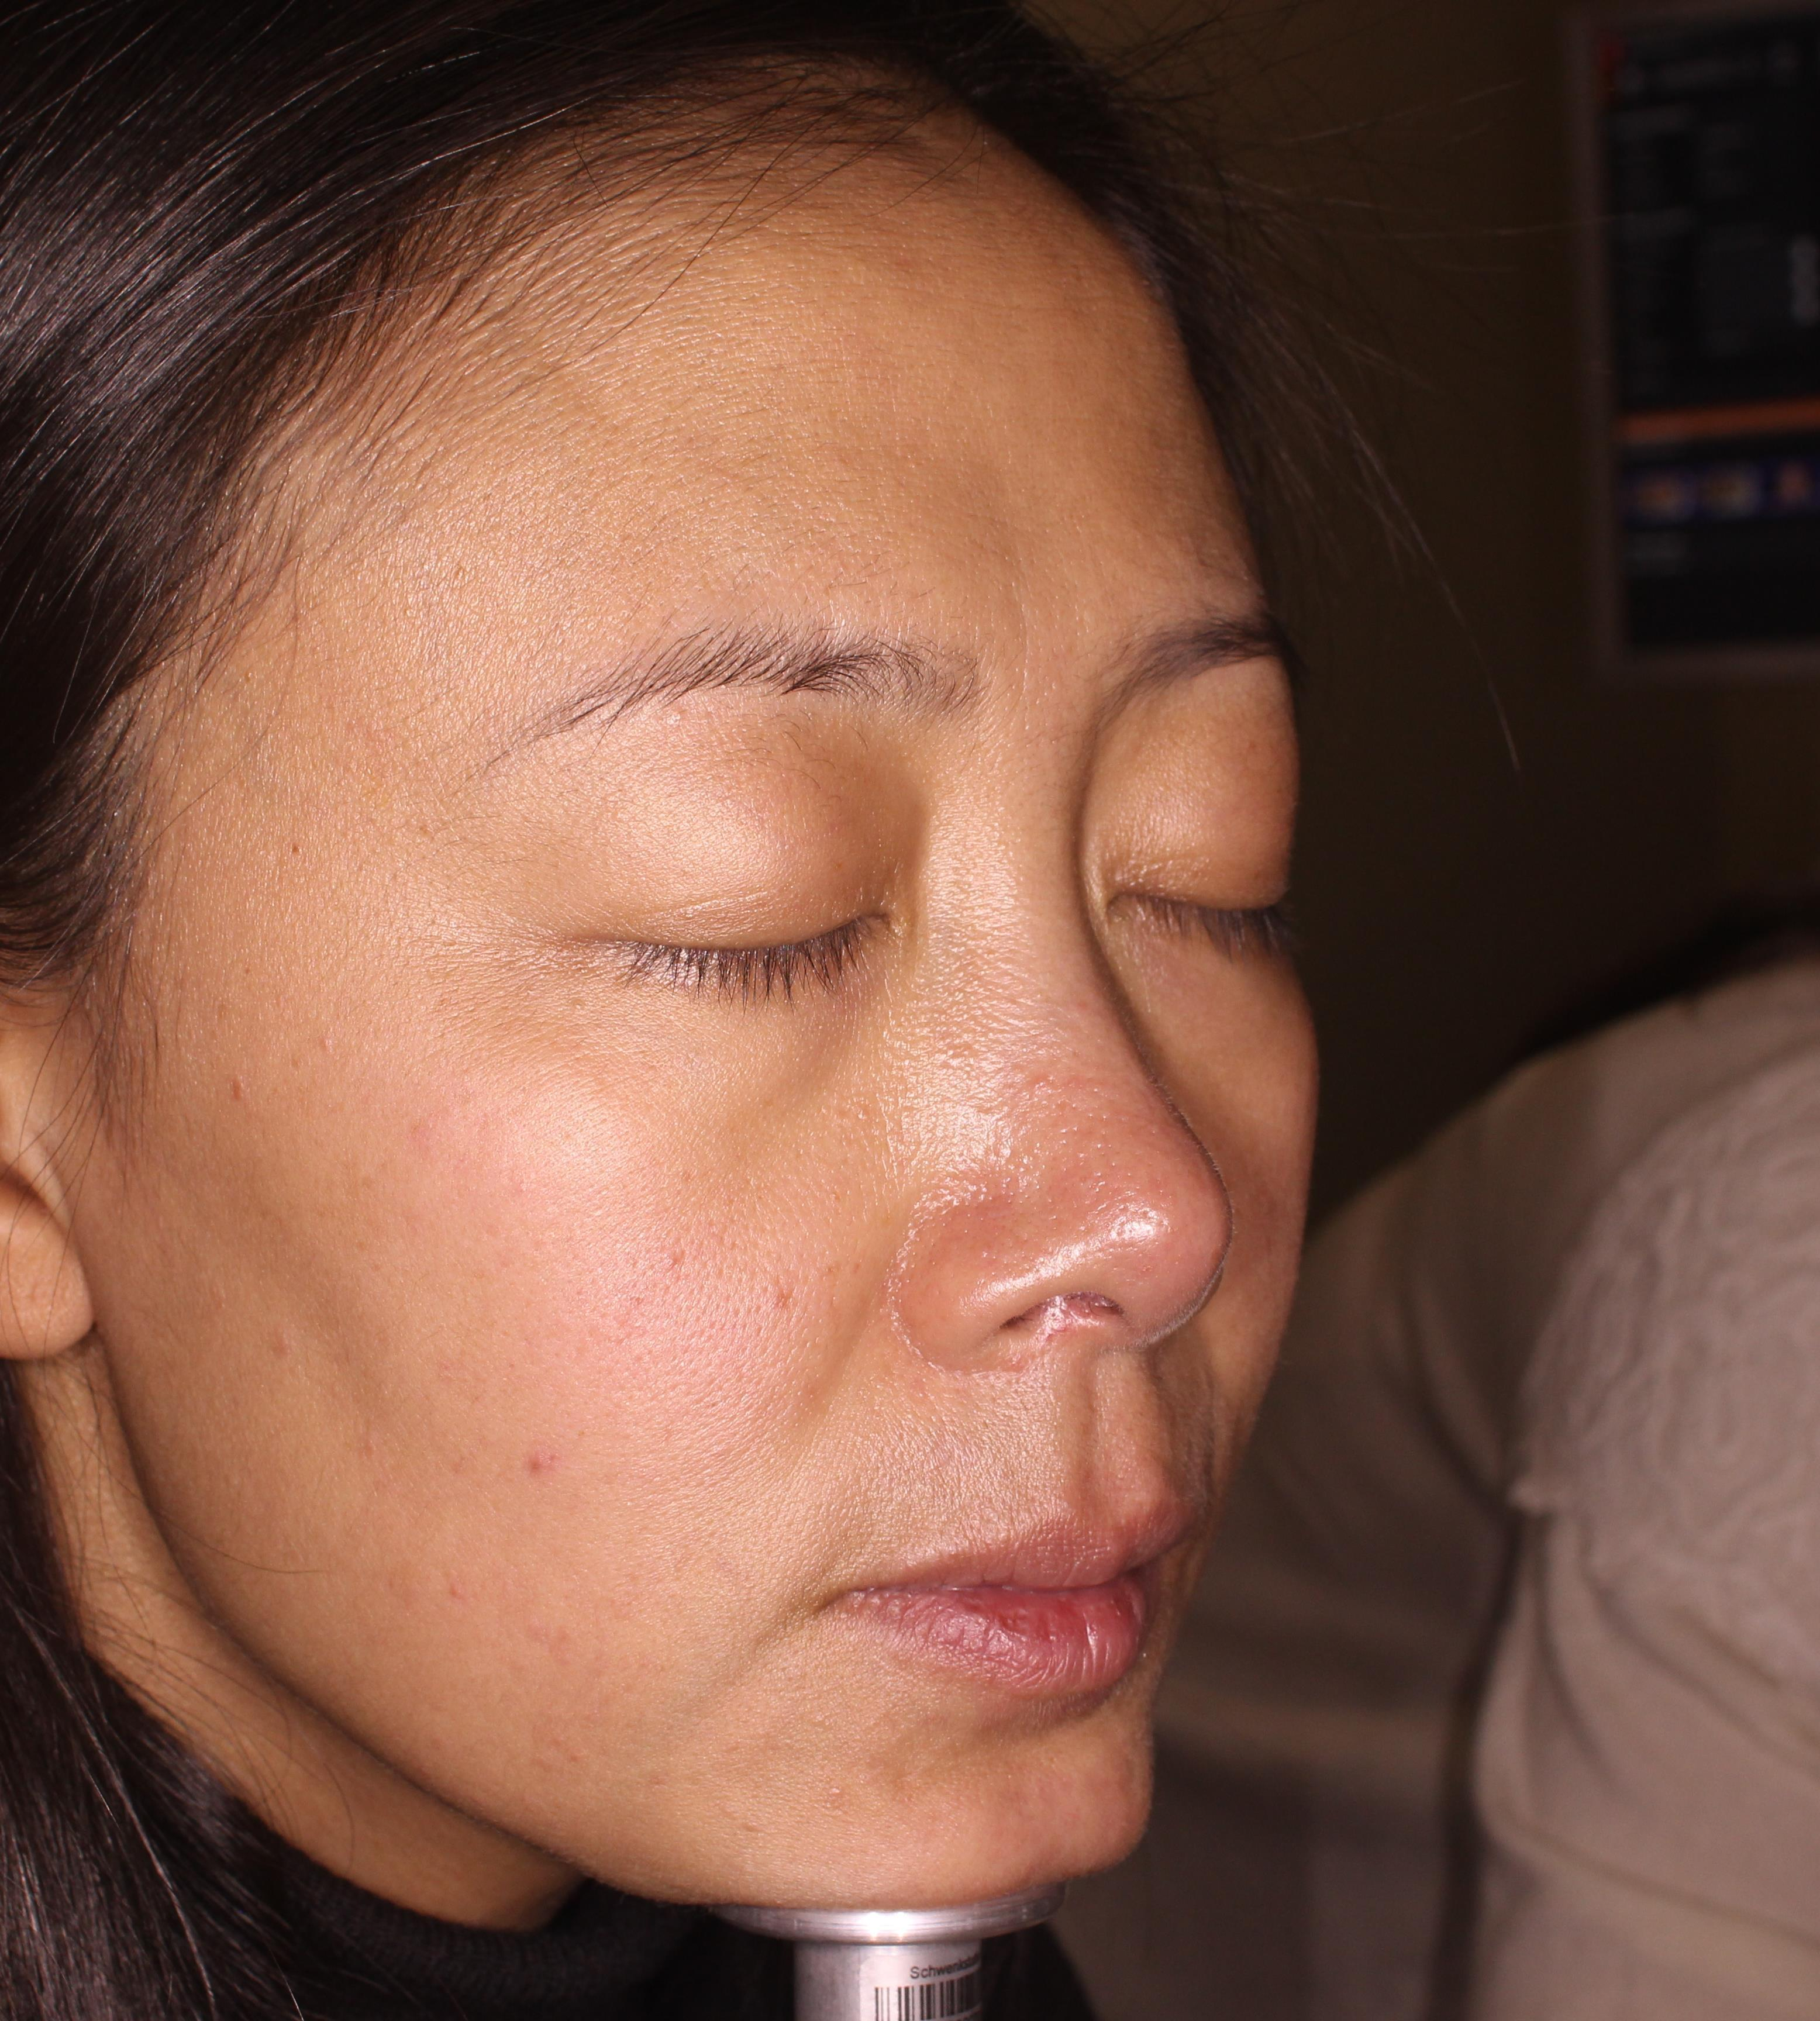fore: (525, 1419, 571, 1505)
